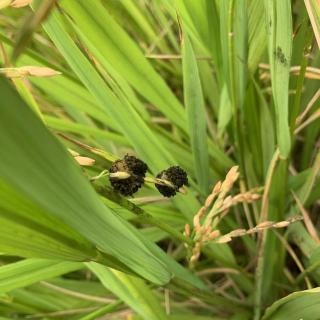Gosong-Palsu: (107, 155, 150, 197), (155, 164, 189, 198)
